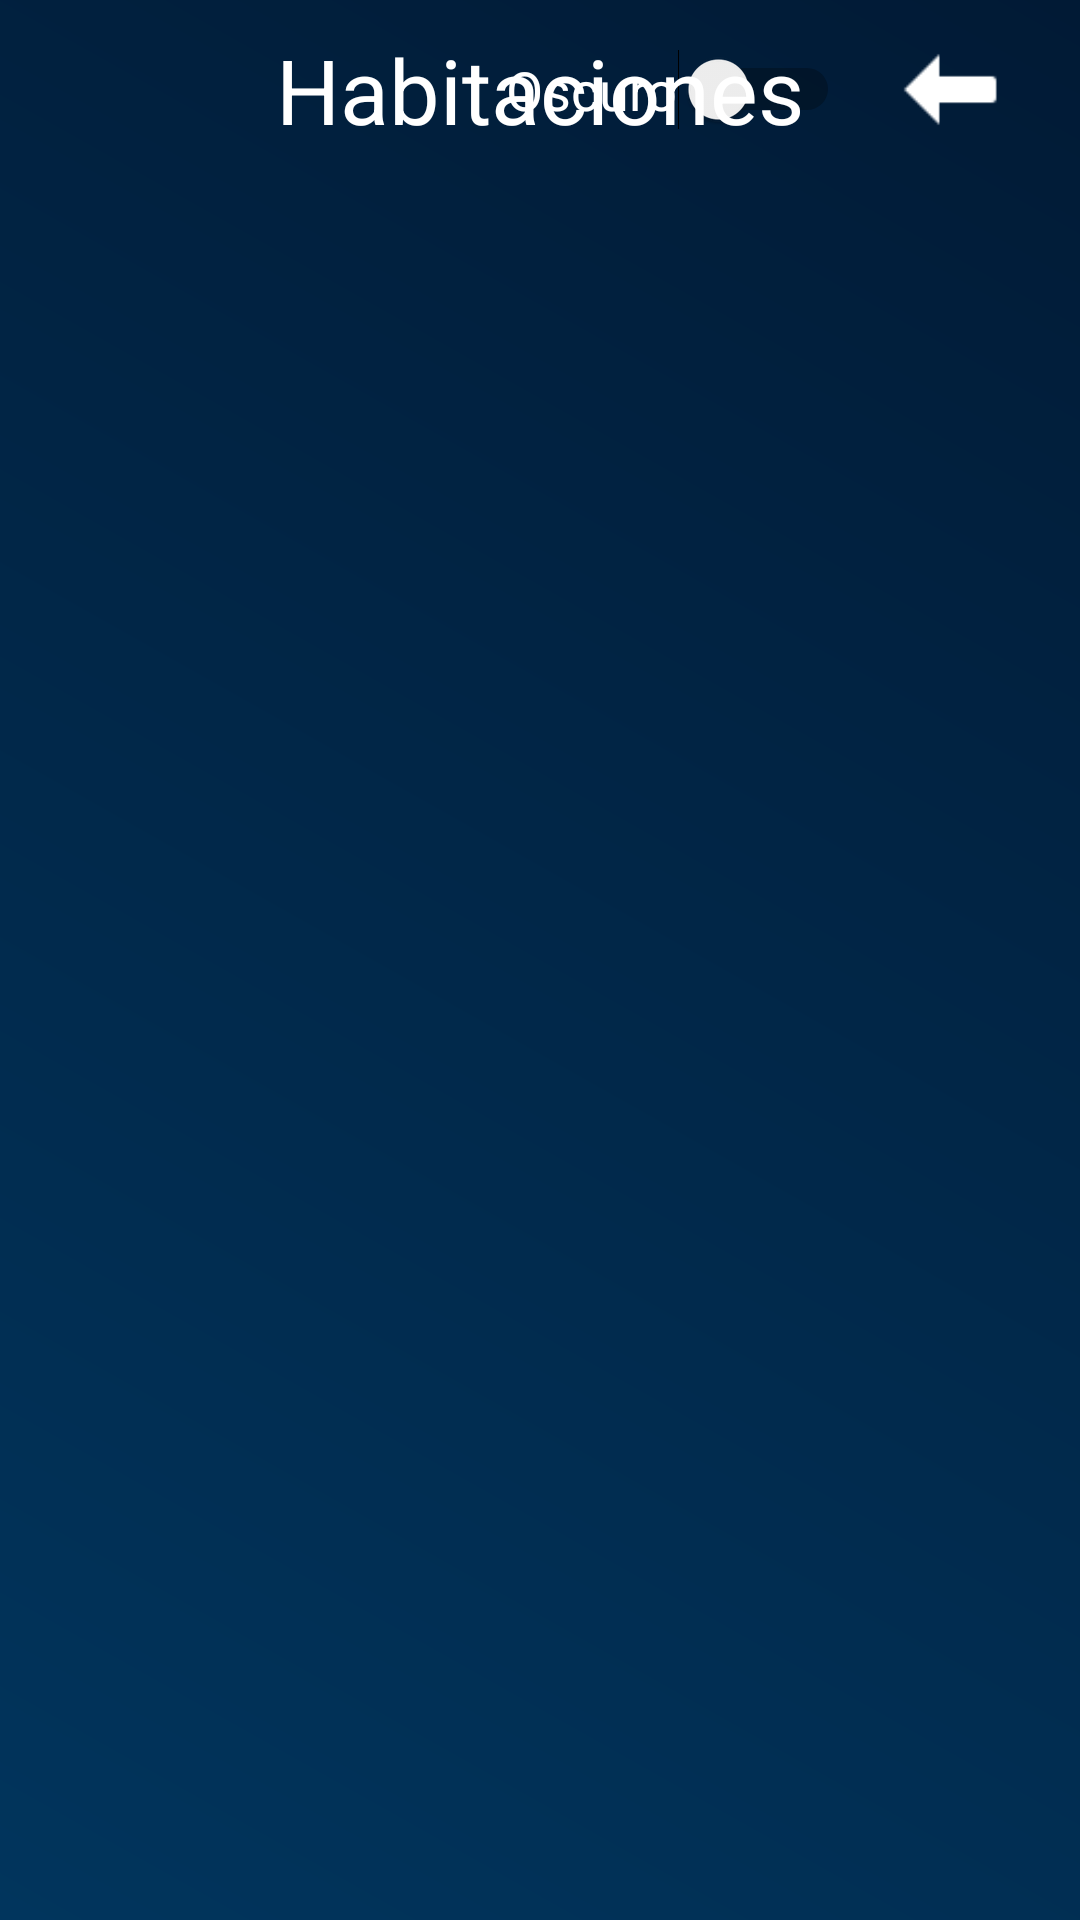

Where to tap for icons on this 1080*1920 app screen, as [x,y]:
back: [950,89]
